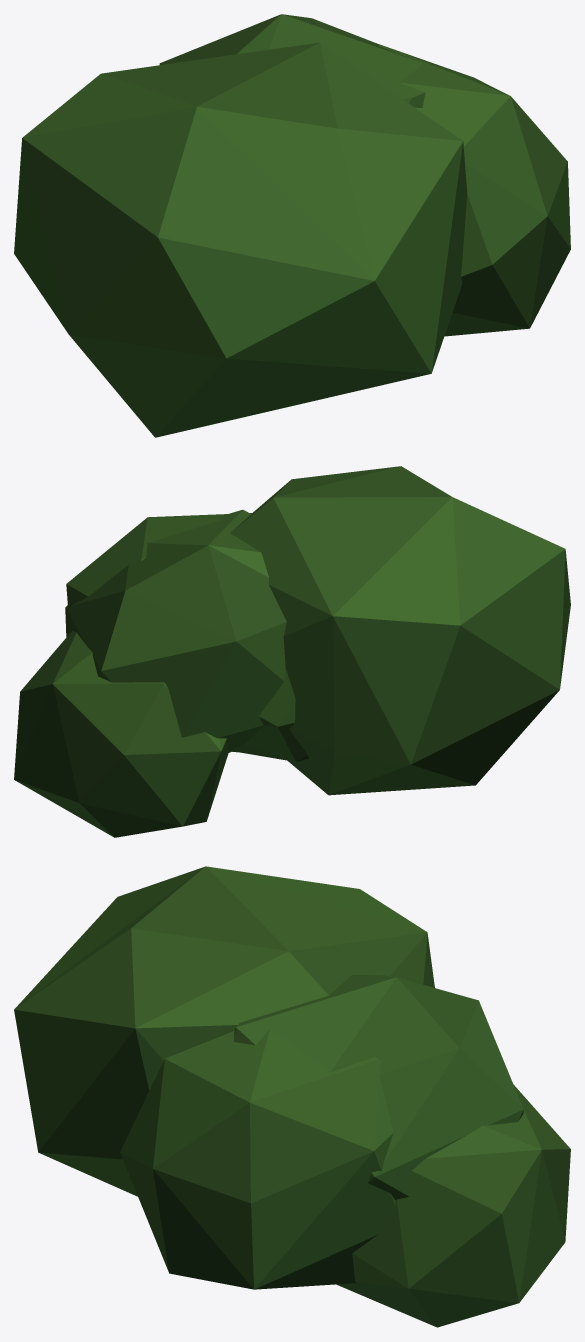
The model's file is bush_2.glb.
3 renders of one model, top to bottom at view 1: azimuth 30°, elevation 25°; view 2: azimuth 150°, elevation 25°; view 3: azimuth 270°, elevation 25°, orthographic. The views are drawn at different scales.
Parts seen in each view (by area): view 1: b; view 2: b; view 3: b.
Boxes of the visible parts, x1,y1,x2,y2 form: b: (14, 14, 570, 437); b: (14, 466, 570, 837); b: (14, 866, 570, 1327).
Bounding box in the file's own units: 1.81 × 1.18 × 1.78.
